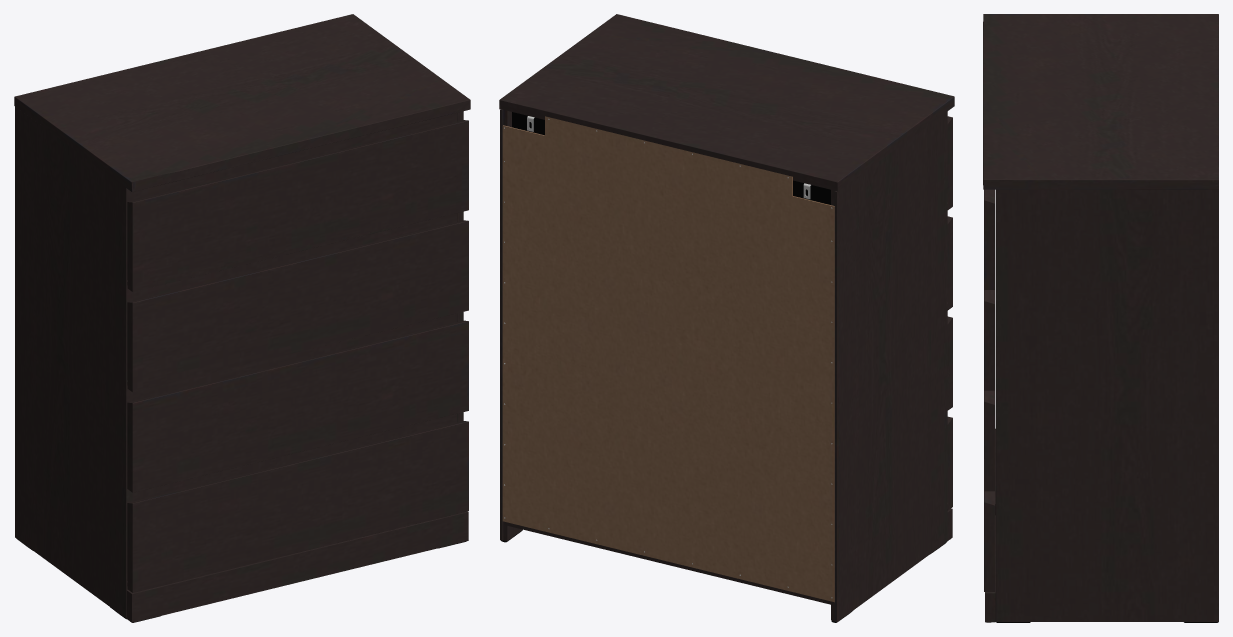
3 views of the same model, side by side, from view 1: azimuth 30°, elevation 25°; view 2: azimuth 150°, elevation 25°; view 3: azimuth 270°, elevation 25° (orthographic).
Visible parts, largest first — view 1: 10354623-MALM001; view 2: 10354623-MALM001; view 3: 10354623-MALM001.
Part boxes in pixels (x1,y1,x2,y2): 10354623-MALM001: (14, 14, 470, 622); 10354623-MALM001: (499, 14, 954, 622); 10354623-MALM001: (983, 14, 1218, 622).
Bounding box in the file's own units: 0.803 × 1 × 0.4822.
1 material, 1 textured.
